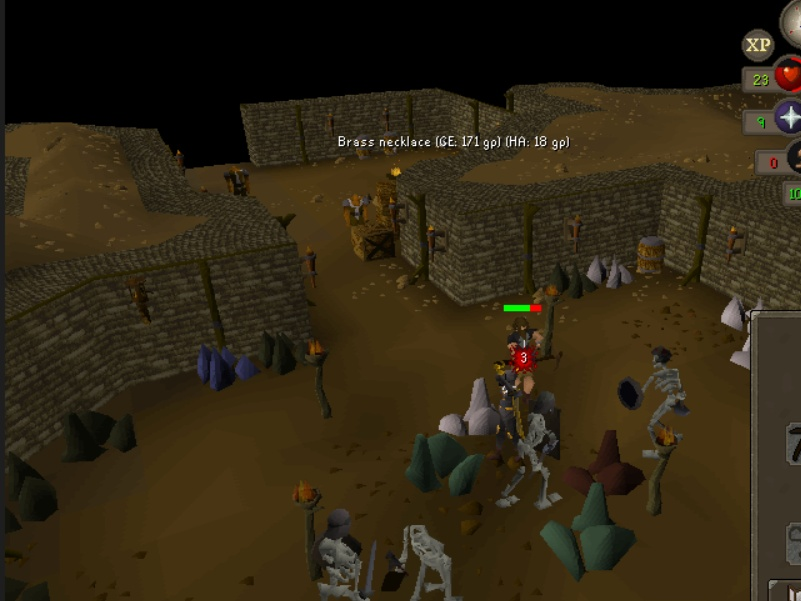adamant: (536, 476, 642, 582), (400, 425, 486, 501)
coal: (52, 399, 139, 471), (1, 448, 62, 534), (251, 325, 305, 379), (543, 255, 591, 302)
iron: (559, 423, 650, 499)
mithril: (193, 330, 260, 396)
silver: (435, 375, 505, 439), (717, 290, 769, 335)
tin: (587, 252, 637, 293)
